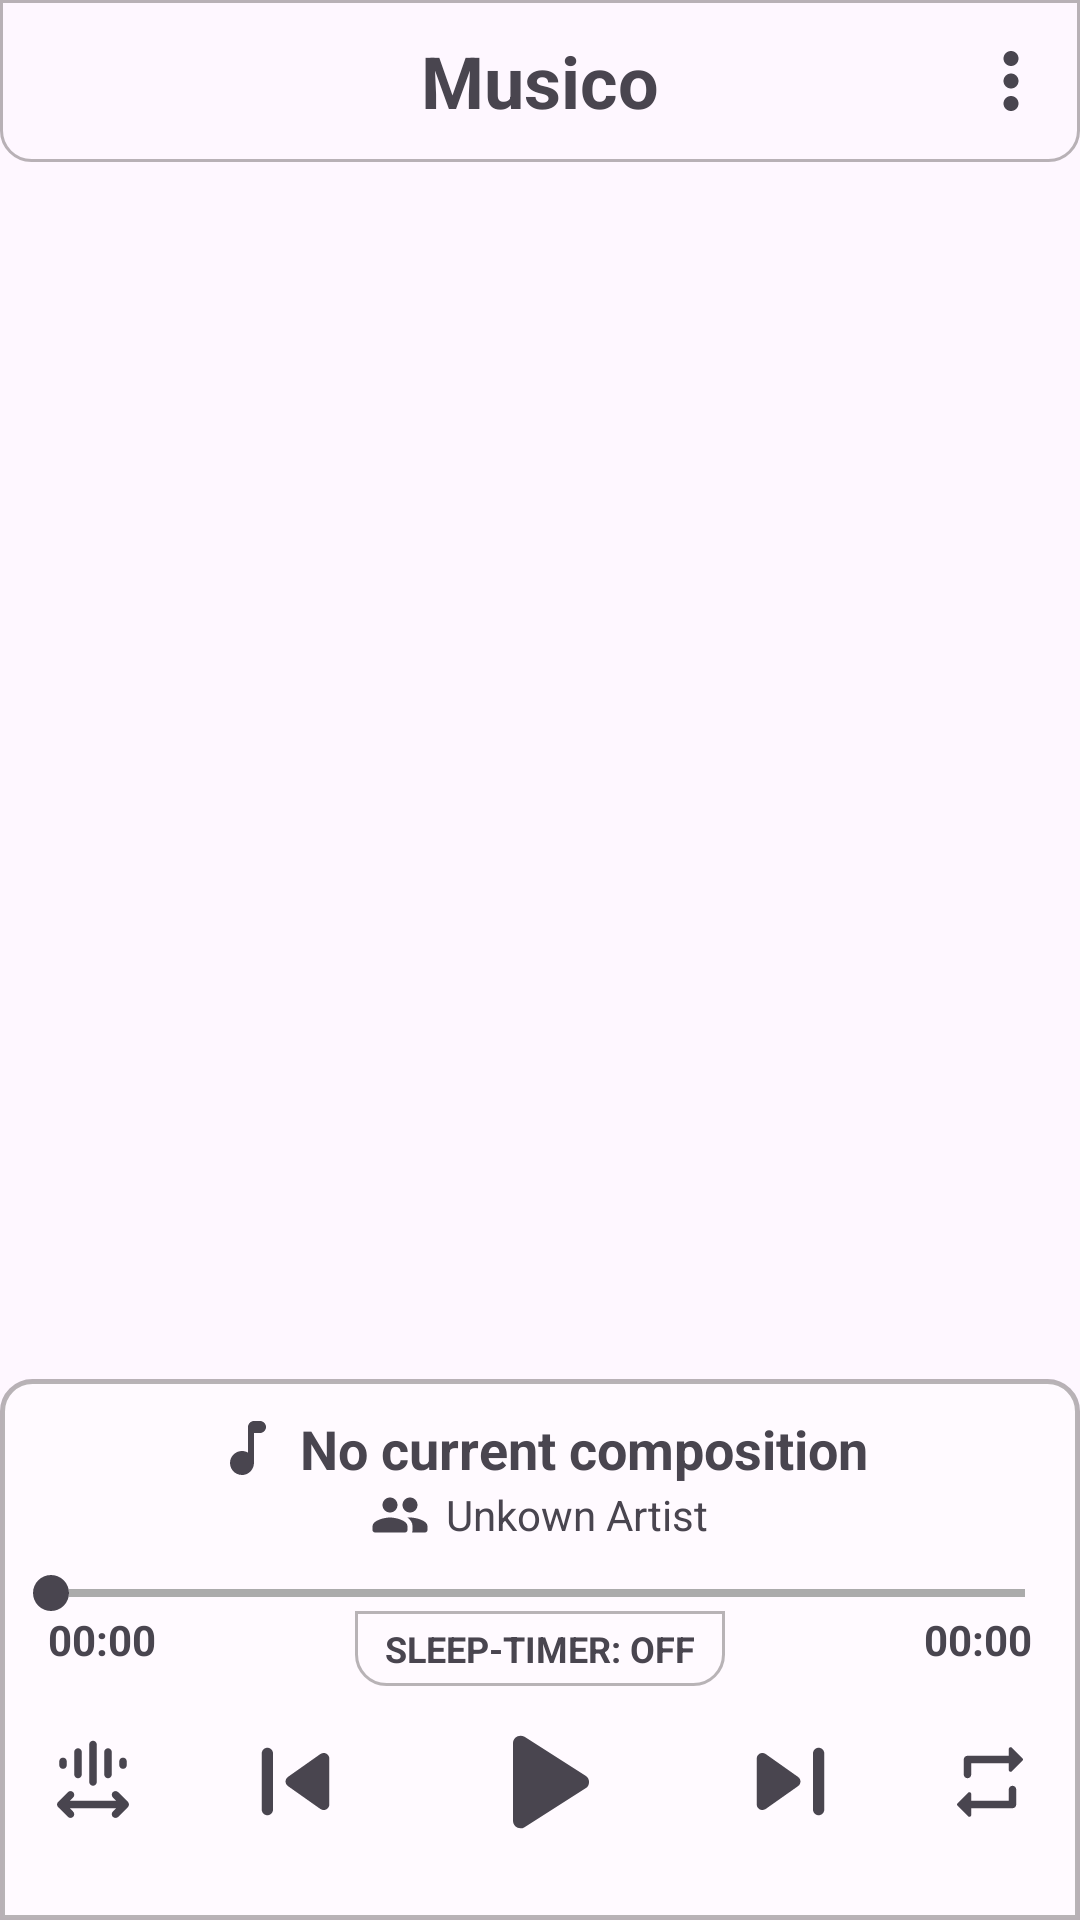

Where to tap for icons on this 1080 × 1920 app screen, as [x,y]:
next: [790,1781]
play: [551,1782]
previous: [295,1781]
repeat: [990,1782]
